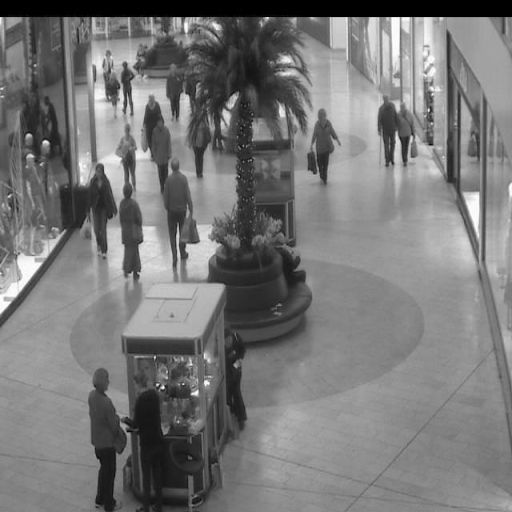person: (85, 364, 124, 511), (129, 372, 164, 510), (163, 156, 194, 264), (86, 162, 116, 258), (222, 323, 247, 424), (309, 105, 339, 183), (119, 183, 142, 277), (377, 93, 398, 166), (115, 124, 138, 187), (151, 116, 169, 193), (142, 94, 164, 153), (397, 100, 416, 168), (164, 61, 182, 116), (194, 108, 207, 182), (121, 58, 136, 114), (108, 69, 120, 119), (102, 48, 114, 97), (185, 68, 197, 111)
